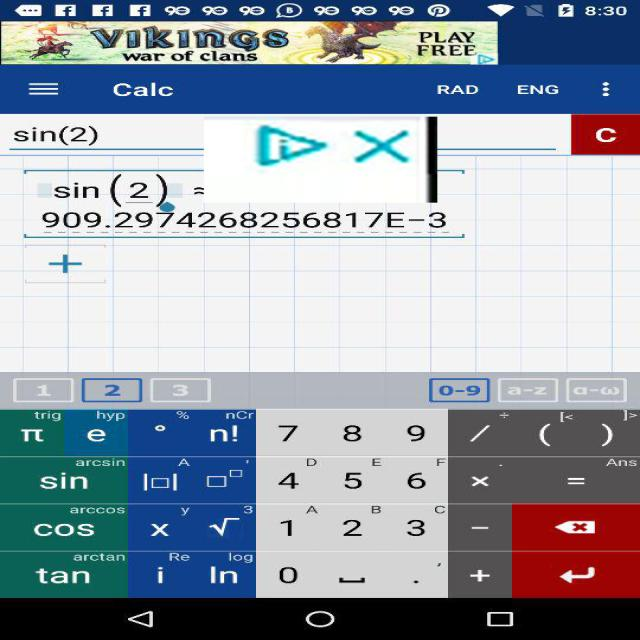sneaking: (204, 116, 437, 202)
